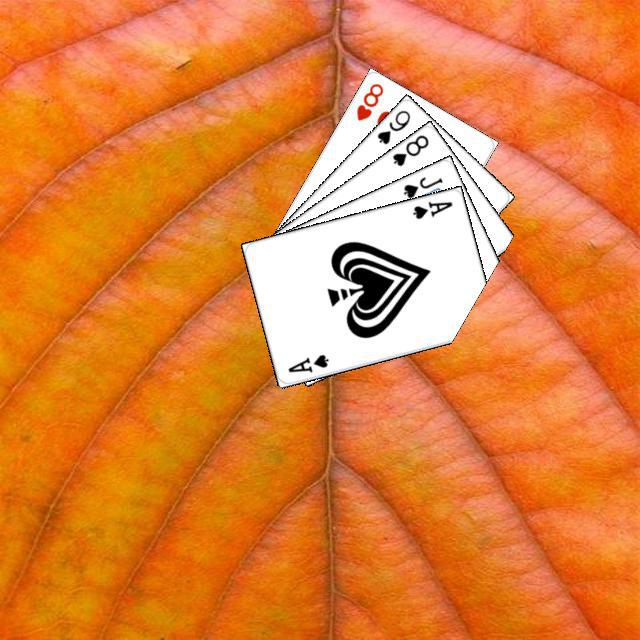8h: (351, 78, 385, 123)
8s: (387, 130, 431, 168)
9s: (372, 105, 412, 146)
As: (283, 349, 331, 374), (408, 196, 454, 221)
Js: (398, 172, 444, 200)
